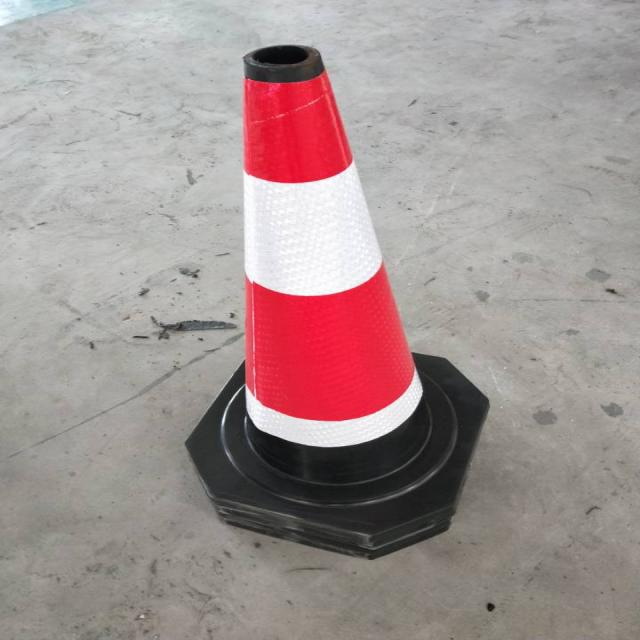reflective_cone: (180, 43, 492, 565)
